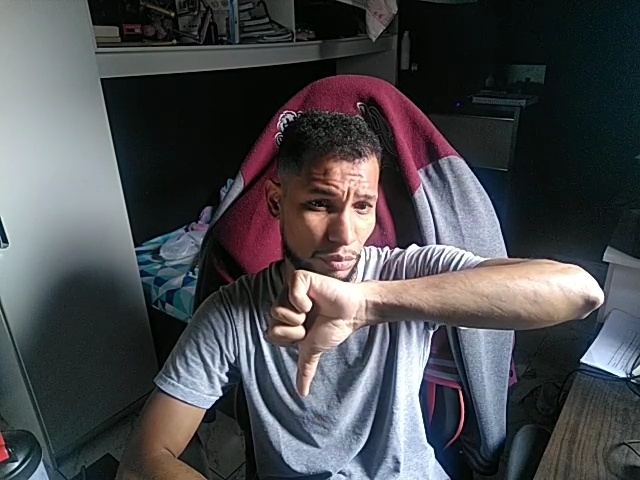não: (253, 261, 361, 400)
